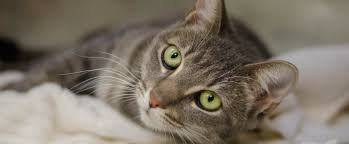cat: (80, 1, 300, 144)
